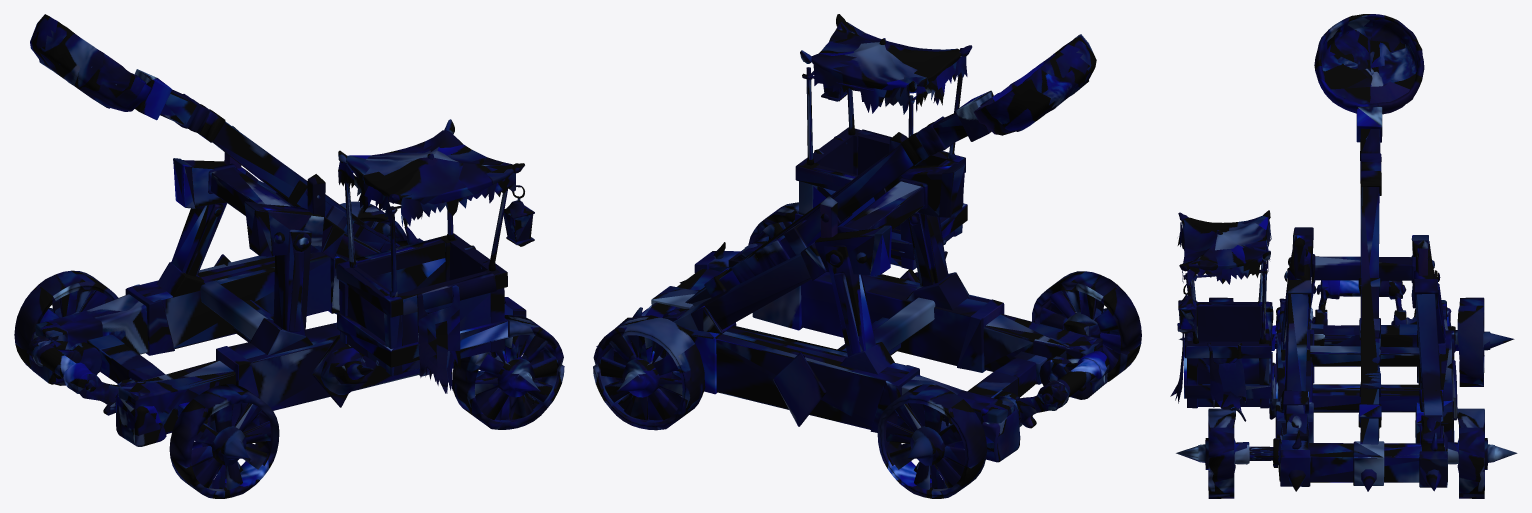
Rendered from Trebuchet.fbx.
3 views of the same model, side by side, from view 1: azimuth 30°, elevation 25°; view 2: azimuth 150°, elevation 25°; view 3: azimuth 270°, elevation 25° (orthographic). The views are drawn at different scales.
Parts seen in each view (by area): view 1: Chassis, ThrowingArm, Wheel_RR, Wheel_FR, Wheel_RL, CrewDeck, Wheel_FL; view 2: Chassis, ThrowingArm, Wheel_FL, Wheel_RL, Wheel_RR, CrewDeck, Wheel_FR; view 3: Chassis, ThrowingArm, Wheel_FR, Wheel_FL, CrewDeck, Wheel_RL.
Boxes of the visible parts, <box> form: Chassis: <box>27,119,534,446</box>; ThrowingArm: <box>30,14,401,251</box>; Wheel_RR: <box>169,384,279,498</box>; Wheel_FR: <box>452,315,564,429</box>; Wheel_RL: <box>14,270,118,385</box>; CrewDeck: <box>338,233,506,302</box>; Wheel_FL: <box>335,201,406,314</box>; Chassis: <box>596,14,1109,462</box>; ThrowingArm: <box>685,34,1096,306</box>; Wheel_FL: <box>593,315,705,430</box>; Wheel_RL: <box>877,384,986,498</box>; Wheel_RR: <box>1032,271,1141,381</box>; CrewDeck: <box>796,127,964,231</box>; Wheel_FR: <box>748,202,798,245</box>; Chassis: <box>1170,210,1457,491</box>; ThrowingArm: <box>1314,14,1424,444</box>; Wheel_FR: <box>1176,408,1249,498</box>; Wheel_FL: <box>1444,408,1517,498</box>; CrewDeck: <box>1185,302,1271,345</box>; Wheel_RL: <box>1448,297,1514,386</box>.
Size of the model in its own units: 82.59 by 73.06 by 67.77.
